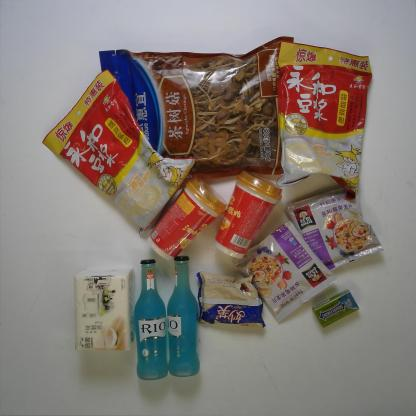Alcohol: (165, 253, 204, 379), (132, 257, 170, 383)
Dessert: (193, 268, 268, 330)
Dried Food: (94, 34, 298, 184)
Gum: (309, 287, 362, 331)
Instant Drink: (38, 66, 200, 240), (273, 38, 373, 201), (232, 218, 340, 324), (283, 185, 386, 274), (143, 170, 229, 264), (212, 169, 286, 261)
Tissue: (70, 265, 136, 356)
